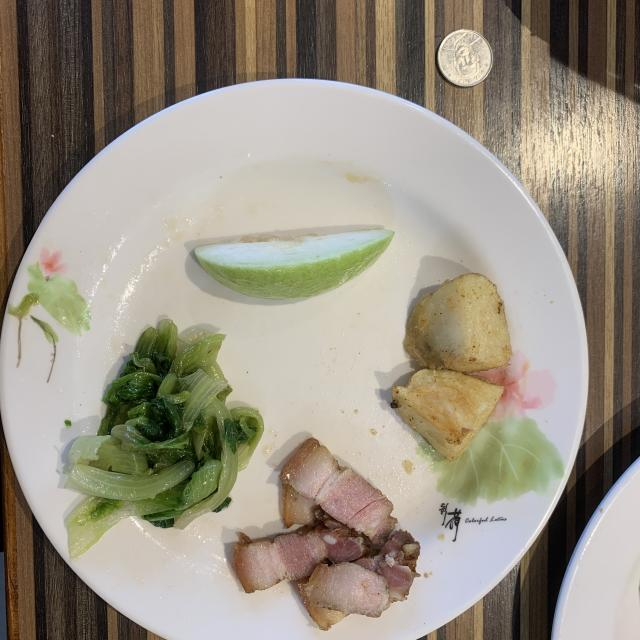coin: (438, 30, 492, 86)
fried potato: (391, 272, 512, 461)
grilled pork: (234, 438, 420, 630)
guava -sliced-: (195, 229, 394, 299)
mustard greens: (65, 320, 262, 559)
